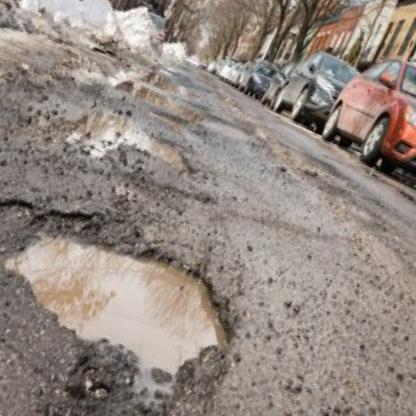pothole: (0, 180, 265, 416)
